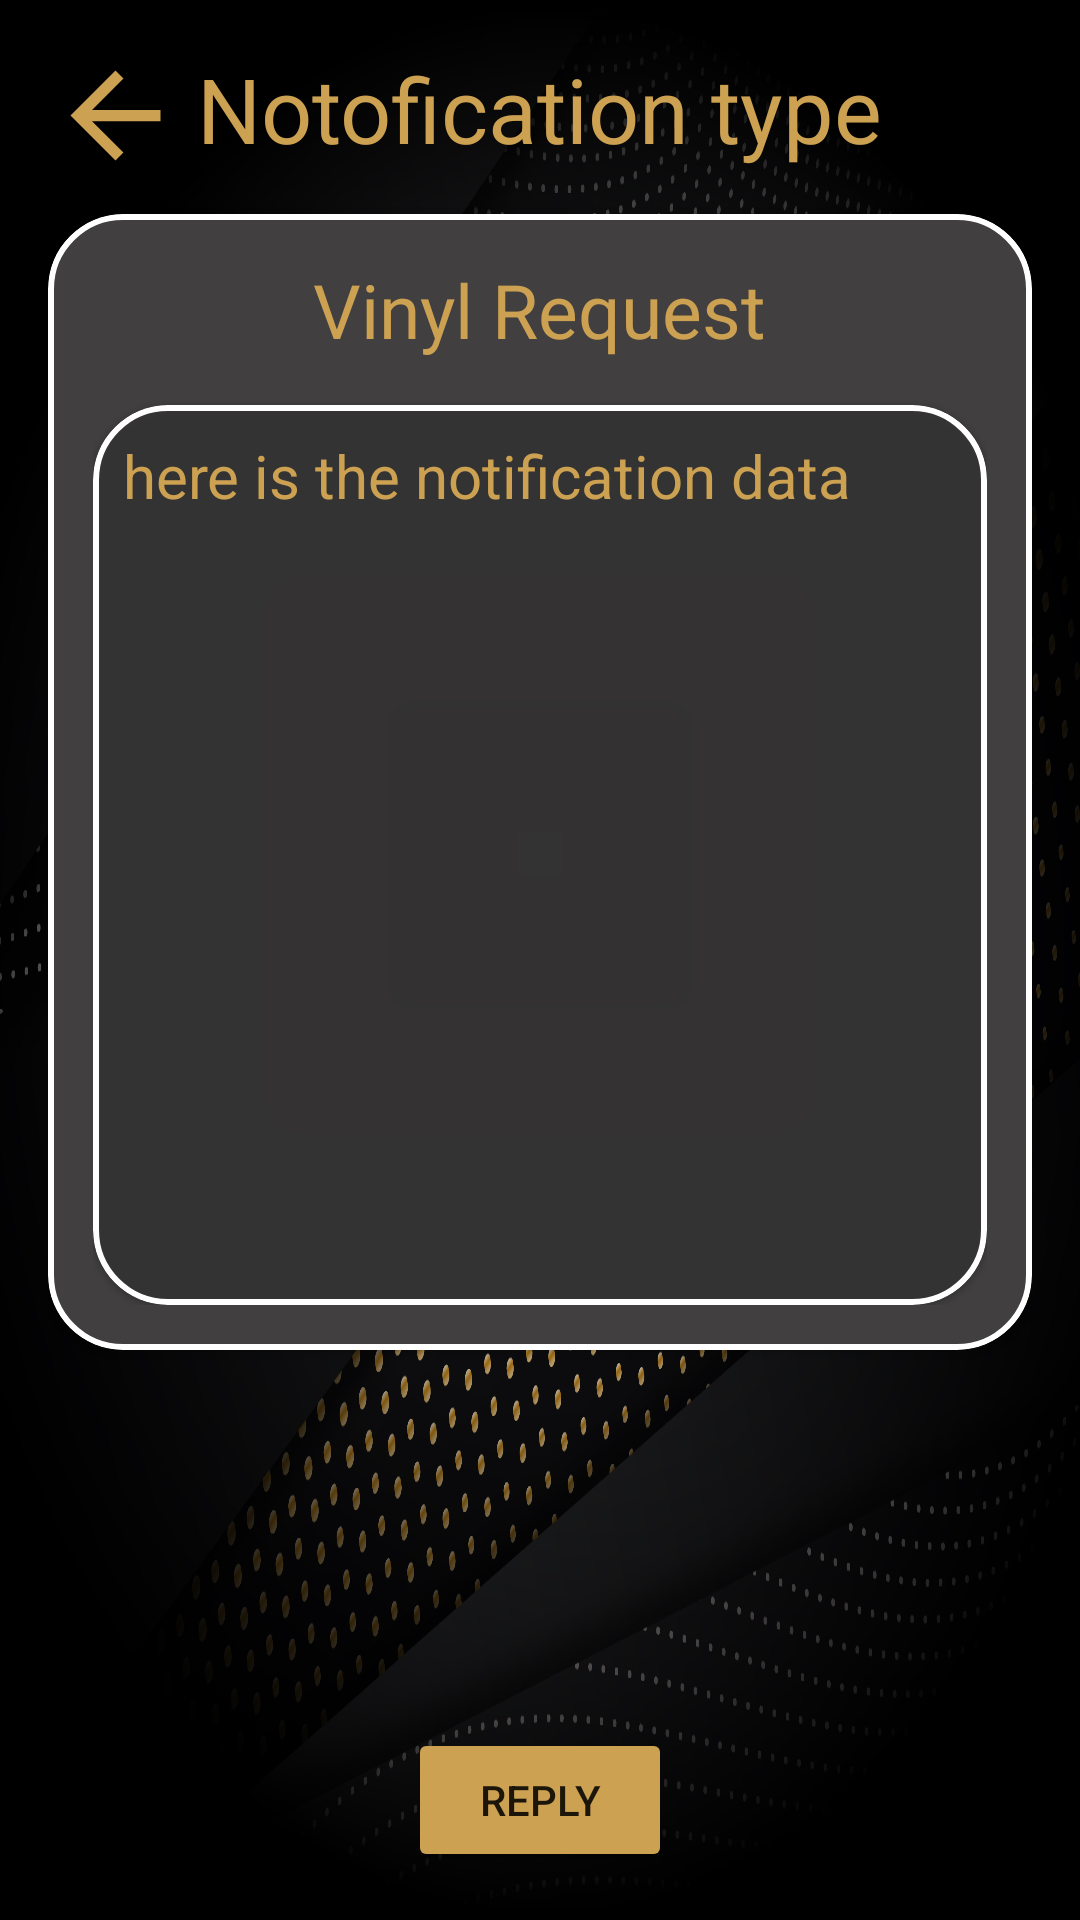

Screen size 1080w x 1920h. Icon name, then its box in pixels as (x1, y1, x2, y2):
arrow back: (70, 70, 161, 161)
